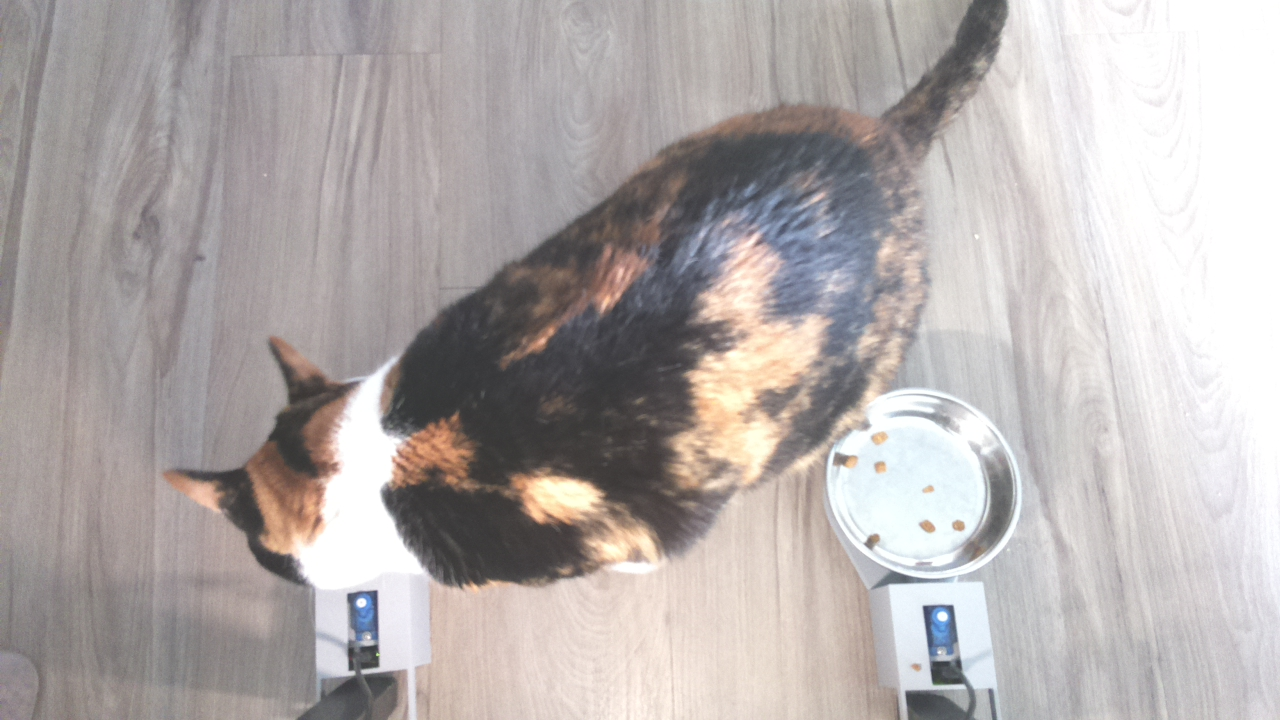bella_eating: (149, 308, 514, 586)
open_bowl: (827, 386, 1022, 577)
